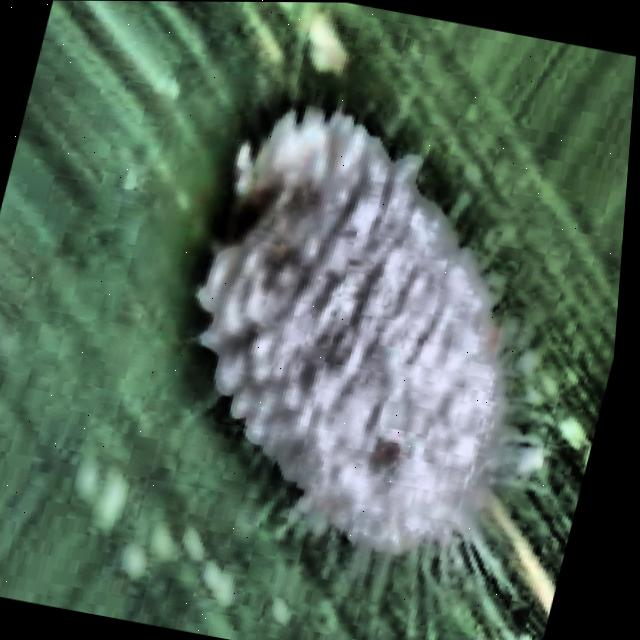Mealy-bug: (0, 0, 640, 630)
